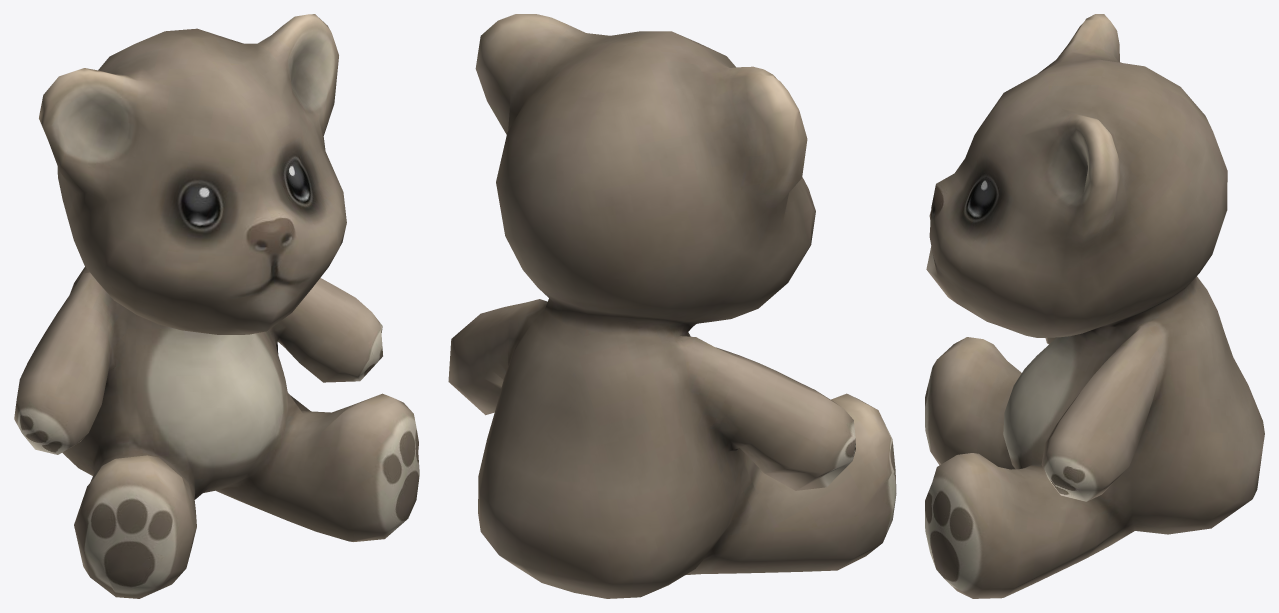
The model's file is Bear.glb.
3 renders of one model, left to right at view 1: azimuth 30°, elevation 25°; view 2: azimuth 150°, elevation 25°; view 3: azimuth 270°, elevation 25°, orthographic. The views are drawn at different scales.
Parts seen in each view (by area): view 1: bear; view 2: bear; view 3: bear.
Boxes of the visible parts, <box> form: bear: <box>14,14,419,598</box>; bear: <box>448,14,896,598</box>; bear: <box>925,14,1264,598</box>.
Bounding box in the file's own units: 1.47 × 1.89 × 1.23.
Materials: 1 (1 with a texture image).
